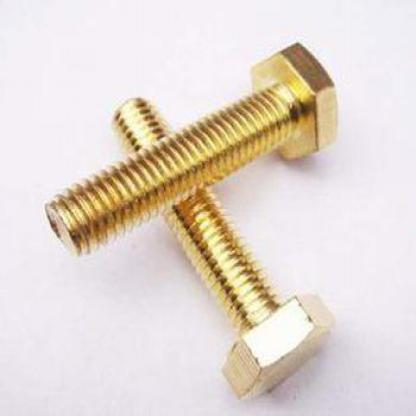FOD: (109, 91, 338, 407), (44, 38, 340, 265)
